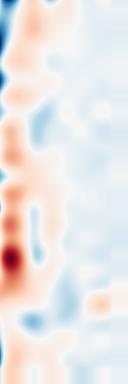filament: (0, 196, 41, 294)
